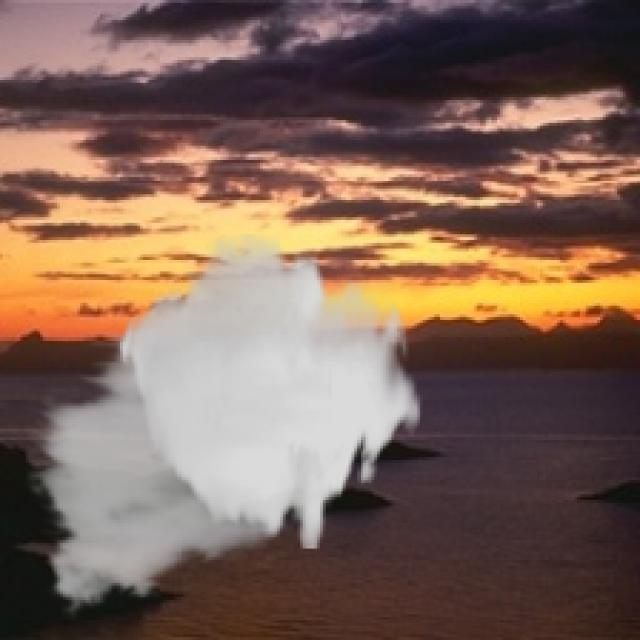Smoke: (26, 234, 423, 623)
